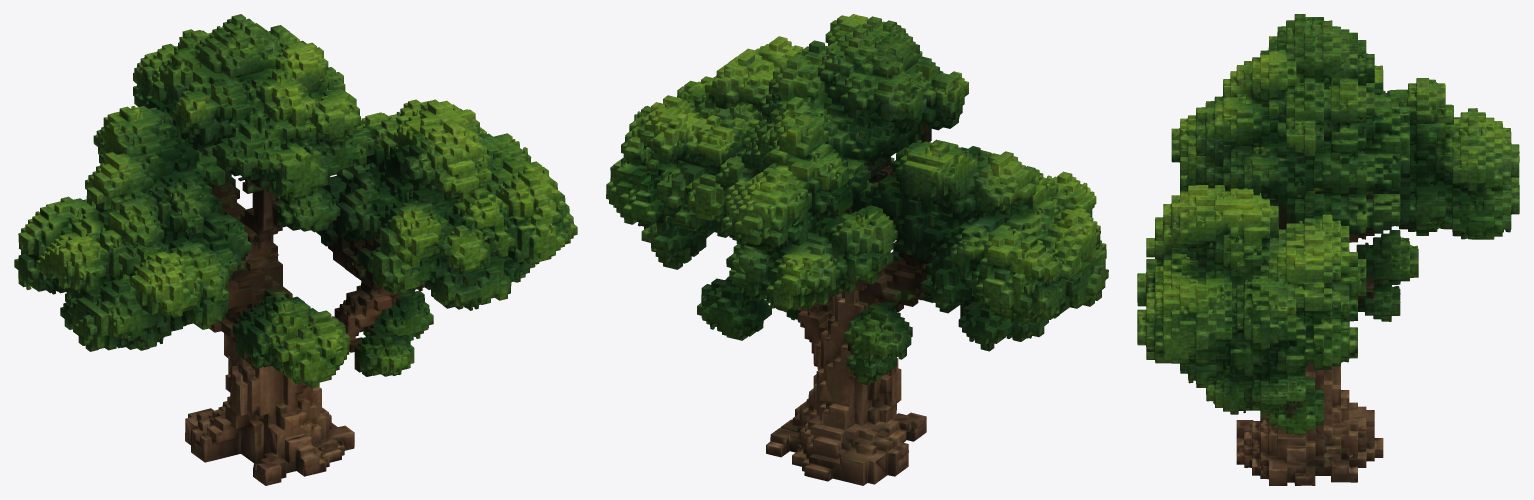
The model's file is tree-opt-250k.glb.
3 renders of one model, left to right at view 1: azimuth 30°, elevation 25°; view 2: azimuth 150°, elevation 25°; view 3: azimuth 270°, elevation 25°, orthographic. The views are drawn at different scales.
Visible parts, largest first — view 1: node_0; view 2: node_0; view 3: node_0.
Boxes of the visible parts, bbox=[...] form: node_0: bbox=[14, 14, 577, 485]; node_0: bbox=[606, 14, 1108, 485]; node_0: bbox=[1137, 14, 1519, 485].
Bounding box in the file's own units: 1.02 × 0.9081 × 0.7458.
1 material, 1 textured.
